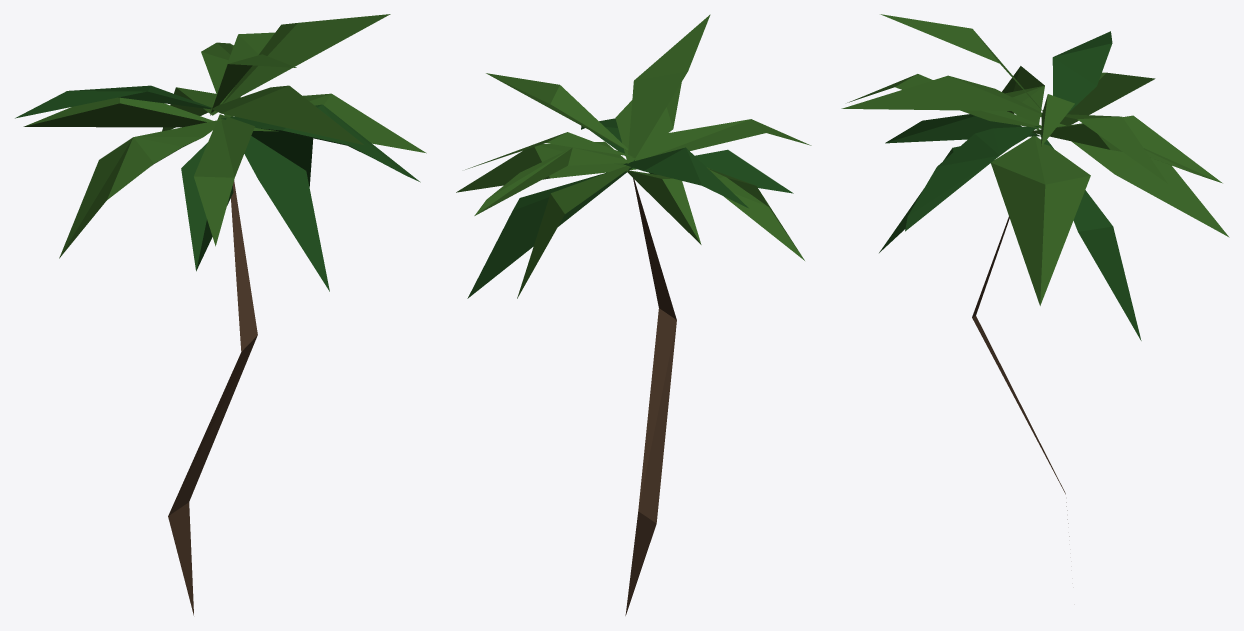
File: palm_a_lod1.glb
The picture shows the model from 3 angles, left to right: view 1: azimuth 30°, elevation 25°; view 2: azimuth 150°, elevation 25°; view 3: azimuth 270°, elevation 25°; orthographic projection. The views are drawn at different scales.
Parts seen in each view (by area): view 1: palm_a_lod1; view 2: palm_a_lod1; view 3: palm_a_lod1.
Part boxes in pixels (x1,y1,x2,y2): palm_a_lod1: [15, 14, 426, 615]; palm_a_lod1: [456, 14, 811, 615]; palm_a_lod1: [841, 14, 1229, 536].
Bounding box in the file's own units: 2.88 × 4.44 × 2.59.
